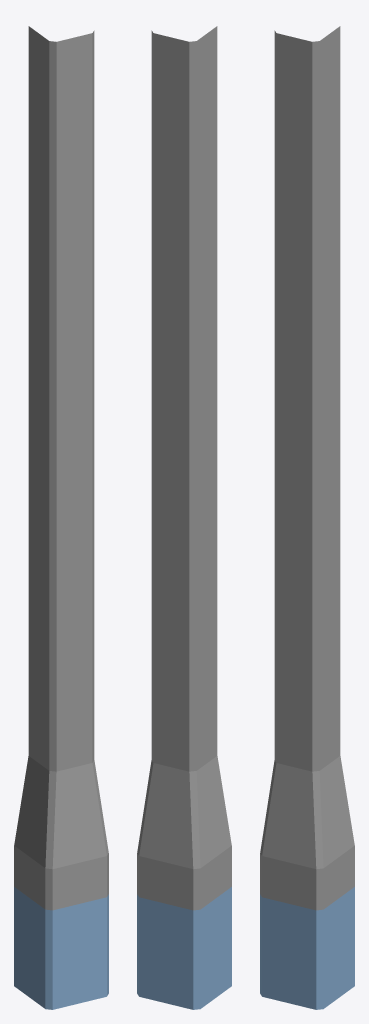
The model's file is pillar.glb.
3 renders of one model, left to right at view 1: azimuth 30°, elevation 25°; view 2: azimuth 150°, elevation 25°; view 3: azimuth 330°, elevation 25°, orthographic.
Parts seen in each view (by area): view 1: Pillar; view 2: Pillar; view 3: Pillar.
Part boxes in pixels (bbox=[...]): Pillar: bbox=[14, 26, 108, 1009]; Pillar: bbox=[137, 26, 231, 1009]; Pillar: bbox=[260, 26, 354, 1009].
Bounding box in the file's own units: 1 × 14.5 × 1.
